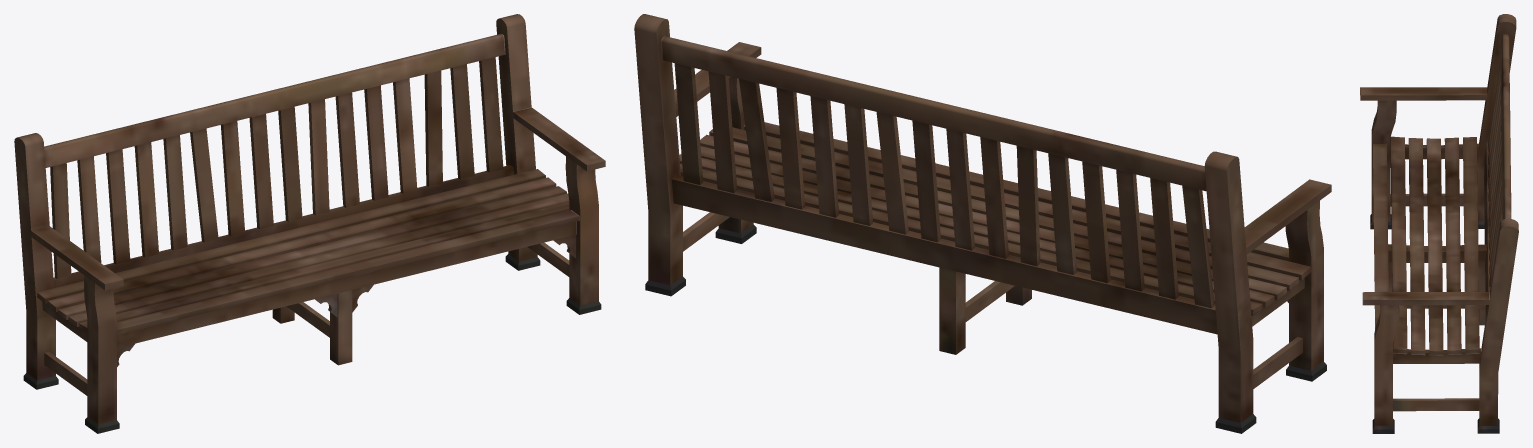
Rendered from bench.glb.
3 renders of one model, left to right at view 1: azimuth 30°, elevation 25°; view 2: azimuth 150°, elevation 25°; view 3: azimuth 270°, elevation 25°, orthographic. The views are drawn at different scales.
Visible parts, largest first — view 1: Bench_Bench Mat_0; view 2: Bench_Bench Mat_0; view 3: Bench_Bench Mat_0.
Boxes of the visible parts, x1,y1,x2,y2 form: Bench_Bench Mat_0: (14, 14, 605, 433); Bench_Bench Mat_0: (634, 14, 1331, 433); Bench_Bench Mat_0: (1360, 14, 1518, 433).
Bounding box in the file's own units: 2.66 × 1.2 × 0.8338.
1 material, 1 textured.
